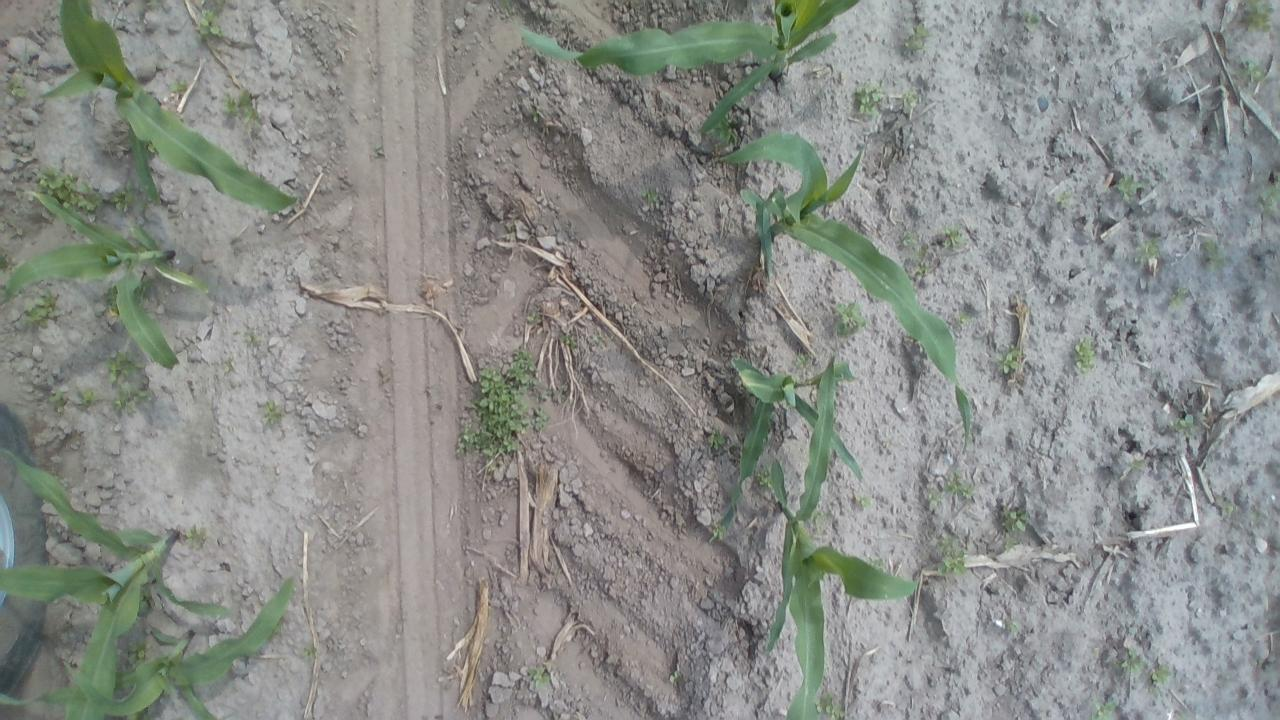Maize: (729, 132, 982, 458), (758, 359, 926, 720), (31, 0, 307, 216), (1, 434, 176, 720), (516, 3, 866, 134), (3, 574, 300, 720), (1, 190, 202, 371), (717, 348, 866, 538)
Weeds: (452, 344, 552, 470), (37, 166, 106, 216), (19, 290, 61, 330), (107, 180, 155, 214), (104, 349, 146, 386), (220, 89, 263, 124), (999, 506, 1030, 553), (834, 300, 869, 340), (934, 538, 968, 578), (111, 384, 154, 415), (1255, 166, 1280, 218), (852, 81, 884, 118), (1198, 236, 1230, 273), (1071, 335, 1100, 374), (1241, 0, 1273, 32), (195, 6, 225, 40), (1111, 173, 1143, 204), (995, 345, 1024, 379), (814, 691, 849, 719), (940, 473, 976, 499), (912, 244, 938, 279), (940, 224, 969, 253), (1148, 661, 1172, 696), (1169, 411, 1201, 437), (904, 22, 931, 52), (1236, 57, 1266, 84), (1118, 644, 1144, 673), (715, 115, 737, 148), (1135, 238, 1162, 264), (808, 507, 834, 534), (260, 399, 284, 428), (527, 661, 553, 687), (105, 284, 122, 322), (756, 462, 776, 494), (1094, 697, 1122, 719), (126, 638, 150, 663), (182, 525, 209, 547), (1168, 284, 1190, 309), (706, 426, 727, 452), (1054, 188, 1078, 210), (5, 76, 27, 99), (137, 588, 155, 616), (900, 85, 919, 111), (46, 391, 68, 413), (640, 186, 661, 209), (1020, 10, 1043, 30), (76, 387, 100, 406), (171, 76, 194, 94), (560, 330, 580, 350), (924, 488, 943, 509), (710, 521, 728, 542), (666, 666, 686, 684), (794, 349, 811, 370), (1004, 618, 1021, 638), (854, 492, 874, 509), (1220, 498, 1236, 519), (243, 327, 261, 345), (867, 555, 887, 571), (899, 230, 918, 246), (526, 310, 544, 326), (300, 644, 316, 660), (140, 276, 156, 292), (955, 310, 970, 326), (1130, 459, 1146, 474), (144, 140, 159, 156), (222, 356, 235, 373), (529, 109, 542, 124), (373, 144, 386, 156), (556, 393, 567, 403), (593, 333, 603, 343), (1176, 713, 1186, 720)
